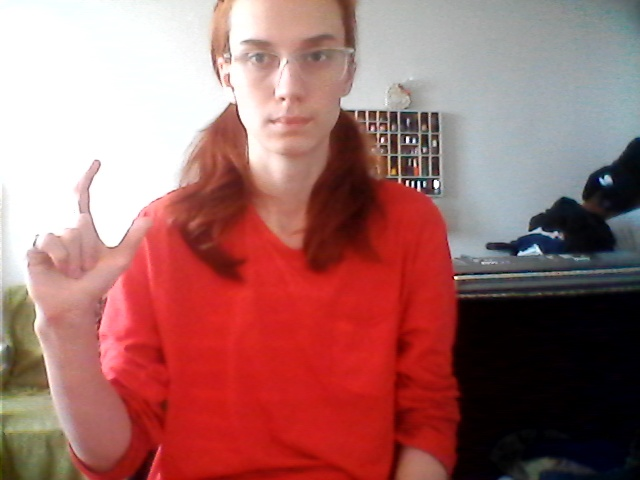c: (16, 154, 161, 312)
